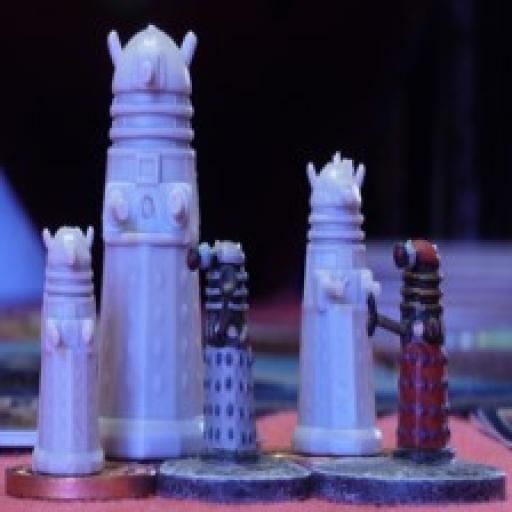dalek: (88, 20, 212, 451), (297, 156, 381, 460), (360, 236, 455, 464), (32, 222, 106, 474), (184, 236, 260, 466)
